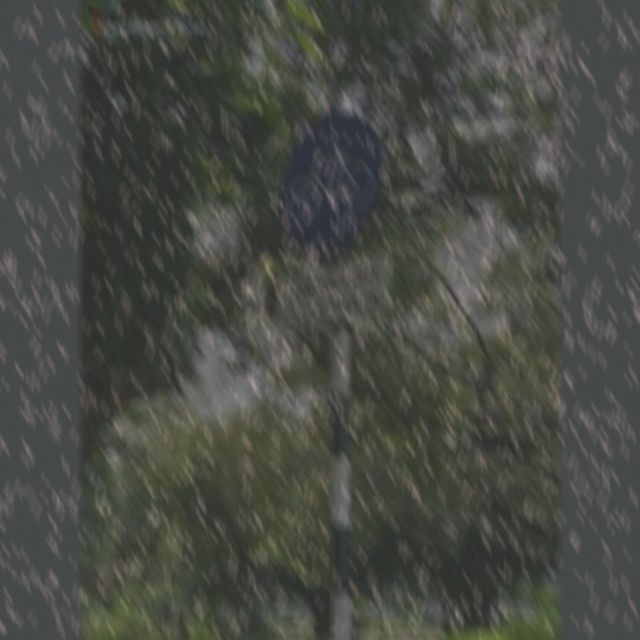Compulsory_Cycle_Track: (274, 113, 396, 249)
